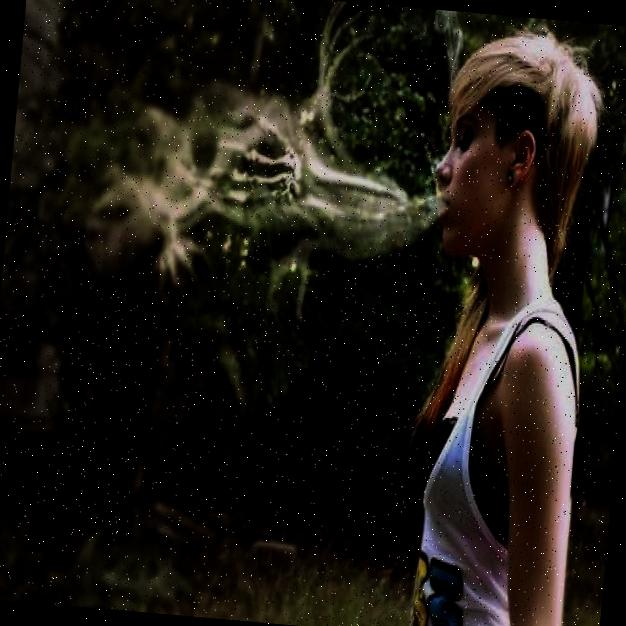smoke: (122, 107, 423, 302)
